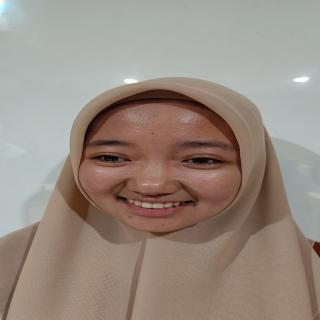Senang: (73, 94, 253, 239)
